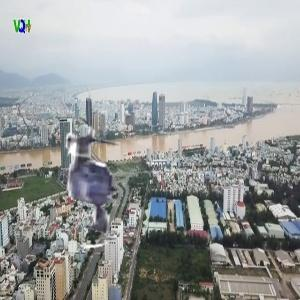drone: (7, 109, 158, 260)
